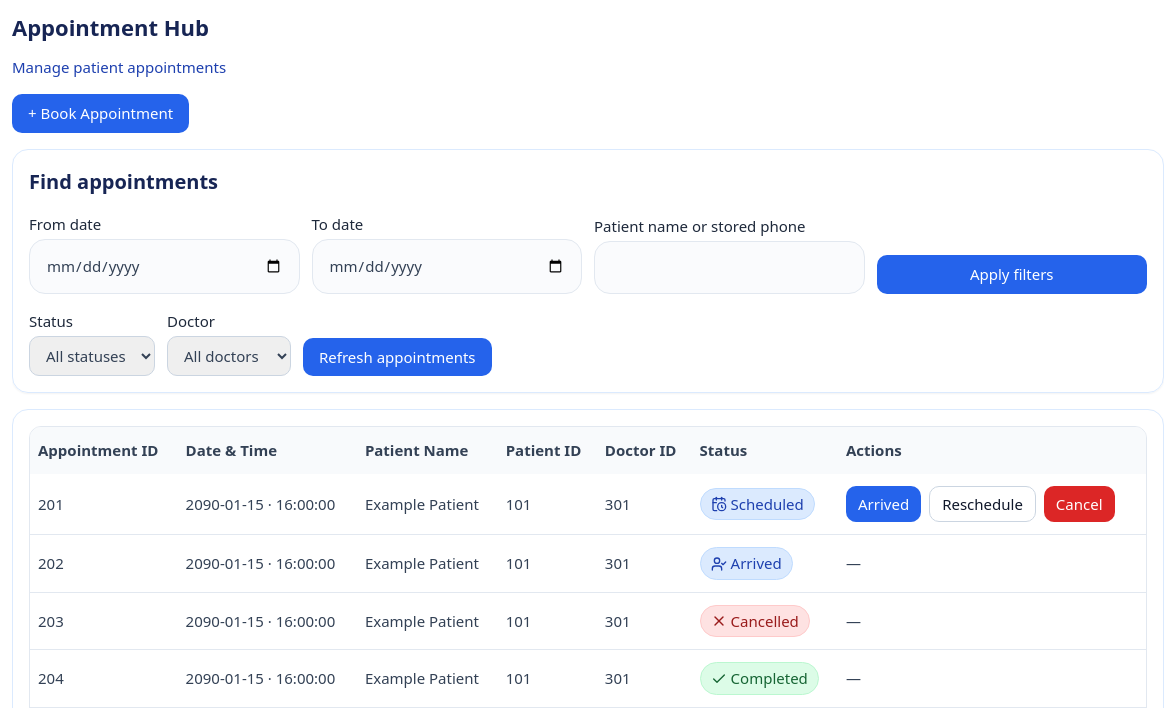
Test case: ADM-05 appointment hub › offers three direct Scheduled actions and checks in through the existing queue API
Check: the button with aria-label "Reschedule appointment 201" reads "Reschedule", box [929,486,1036,522]
Check: the button with aria-label "Cancel appointment 201" reads "Cancel", box [1044,486,1115,522]
Click the button "Arrived".
click(884, 504)  # box [846,486,921,522]
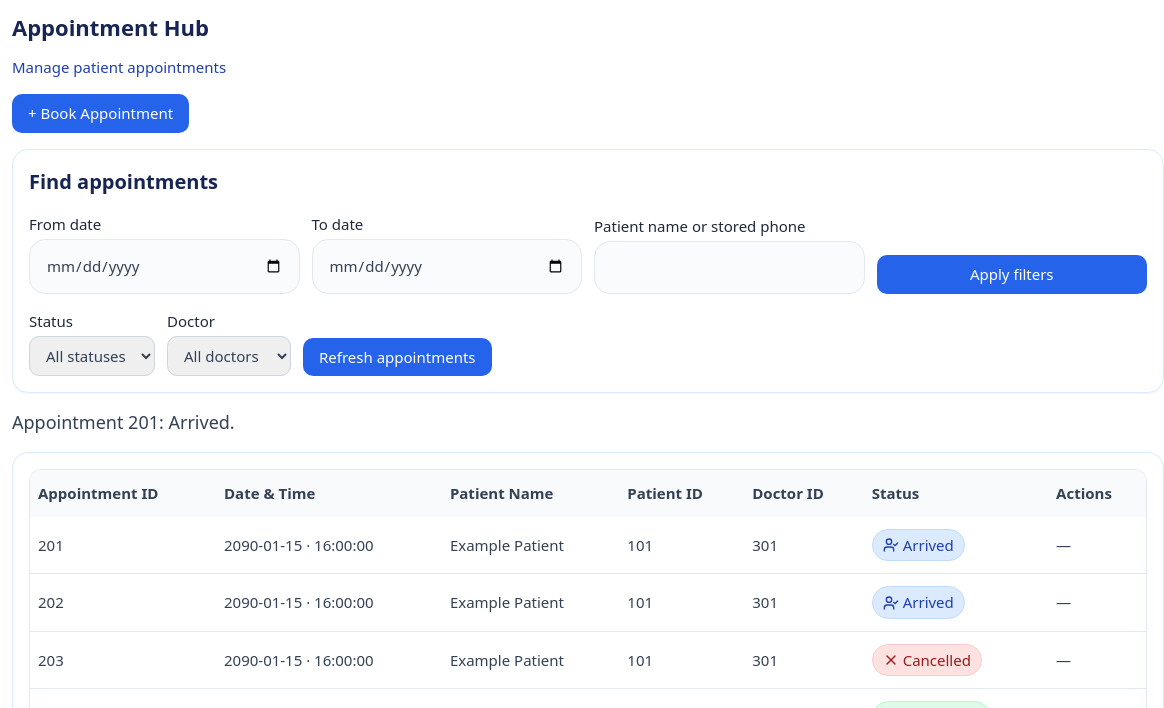
Check: the text "Arrived" is shown 2 times, box [903,534,954,556]; [903,591,954,614]
Check: the text "Appointment 201: Arrived." is shown, box [12,410,235,434]
